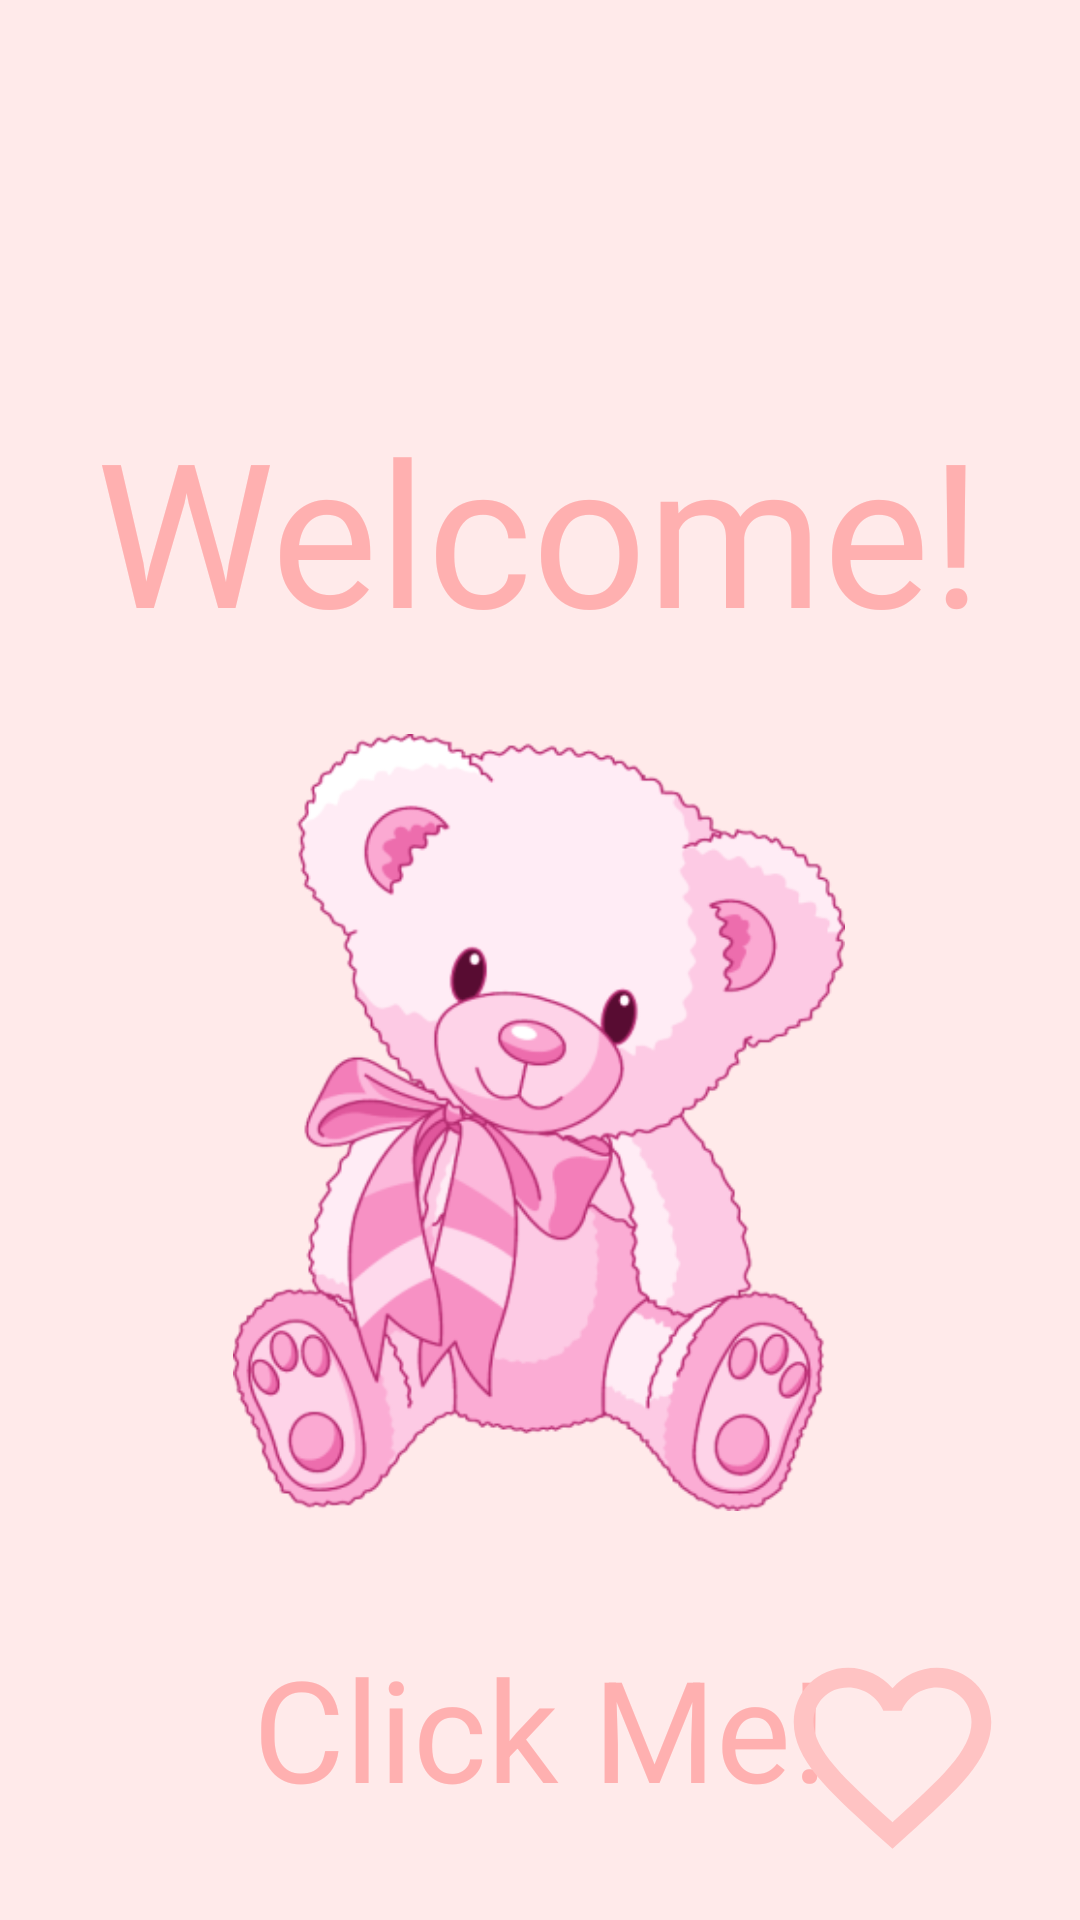

Named icons in this screenshot (1080*1920) and their centers, [x,y]:
heart: [892,1758]
